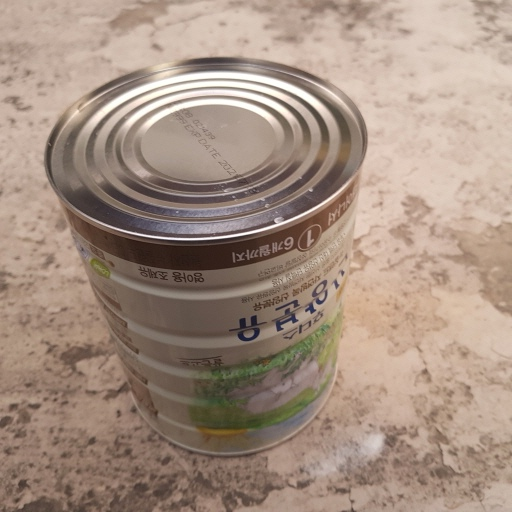Metal_1: (44, 53, 368, 459)
